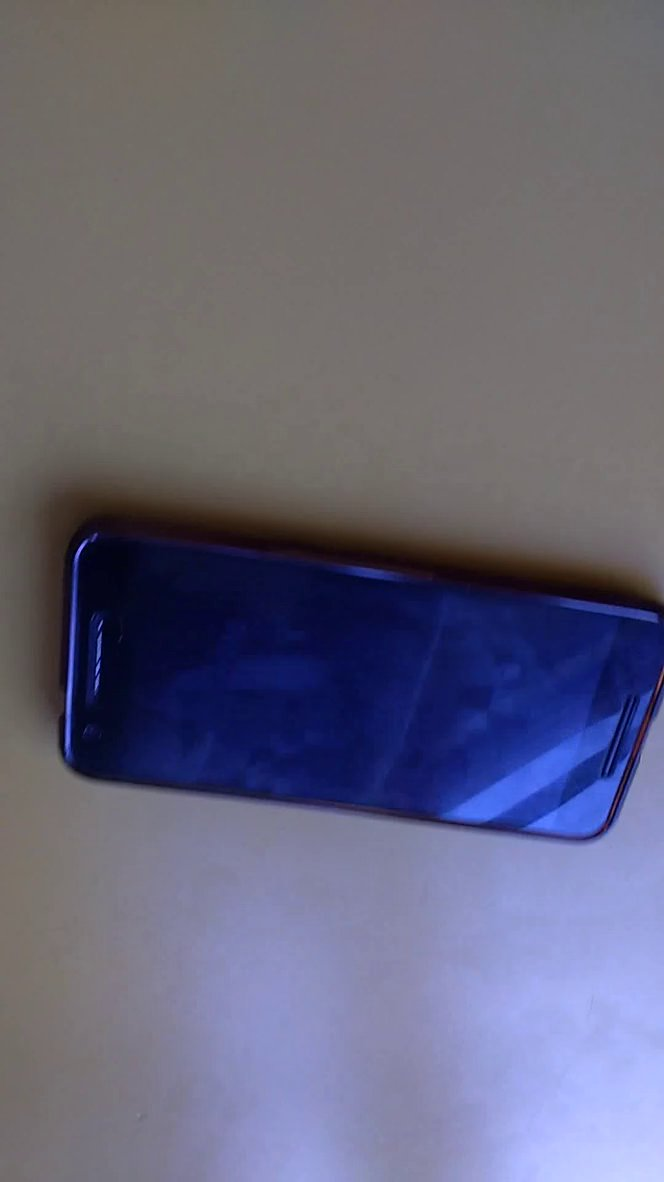phone: (44, 486, 664, 865)
